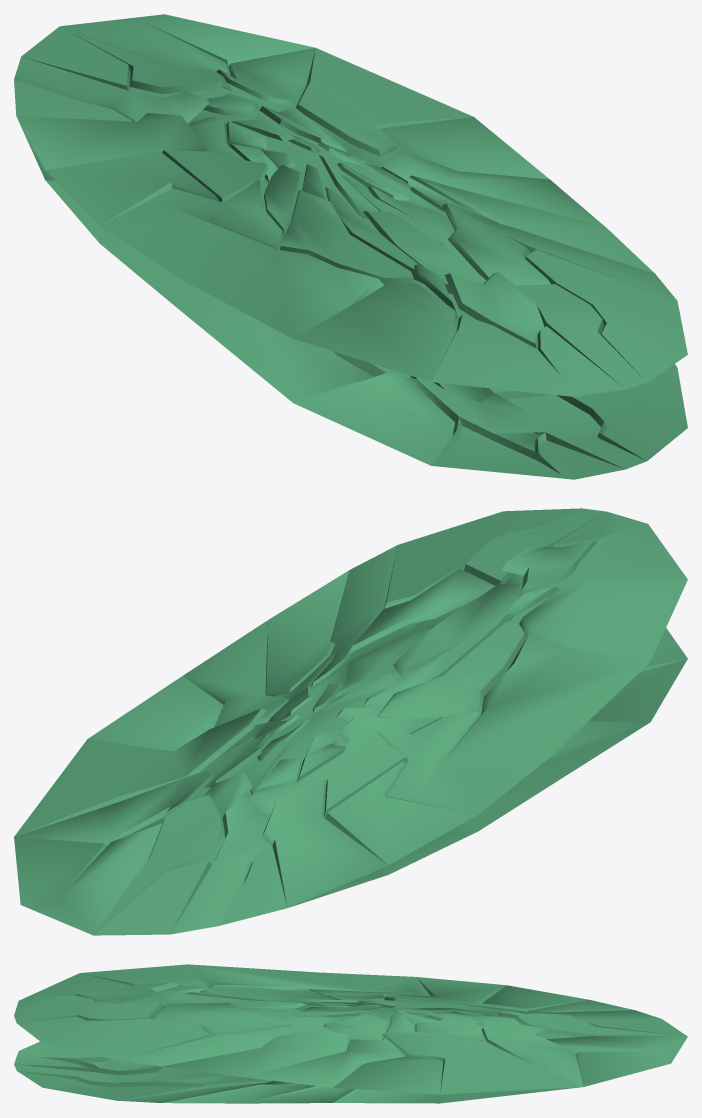
The model's file is etc_dargonship_weapon_eff_weapon_eff2.glb.
3 renders of one model, top to bottom at view 1: azimuth 30°, elevation 25°; view 2: azimuth 150°, elevation 25°; view 3: azimuth 270°, elevation 25°, orthographic. The views are drawn at different scales.
Bounding box in the file's own units: 0.946 × 0.343 × 2.3.
